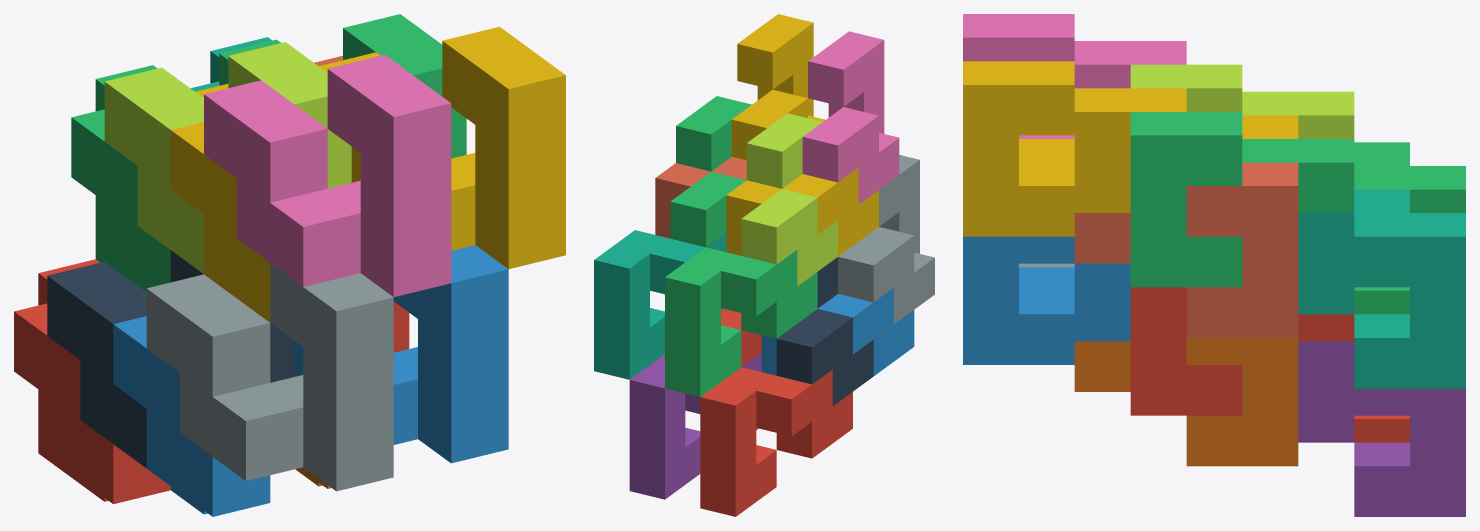
The model's file is tiling.obj.
3 views of the same model, side by side, from view 1: azimuth 30°, elevation 25°; view 2: azimuth 150°, elevation 25°; view 3: azimuth 270°, elevation 25° (orthographic). The views are drawn at different scales.
Parts seen in each view (by area): view 1: copy_2_domain_4, copy_2_domain_2, copy_2_domain_8, copy_2_domain_6, copy_2_domain_3, copy_2_domain_1, copy_1_domain_1, copy_1_domain_2, copy_1_domain_3, copy_1_domain_4, copy_2_domain_7, copy_2_domain_5 (+1 smaller); view 2: copy_1_domain_1, copy_1_domain_3, copy_2_domain_4, copy_1_domain_7, copy_2_domain_3, copy_2_domain_2, copy_1_domain_5, copy_2_domain_8, copy_2_domain_7, copy_2_domain_1, copy_1_domain_4, copy_1_domain_2 (+2 smaller); view 3: copy_2_domain_8, copy_1_domain_7, copy_2_domain_7, copy_1_domain_5, copy_2_domain_6, copy_1_domain_8, copy_1_domain_6, copy_2_domain_5, copy_2_domain_4, copy_2_domain_3, copy_1_domain_3, copy_1_domain_1 (+1 smaller).
Part boxes in pixels (x1,y1,x2,y2): copy_2_domain_4: (204,54,451,296); copy_2_domain_2: (146,263,393,491); copy_2_domain_8: (319,26,565,269); copy_2_domain_6: (294,245,508,463); copy_2_domain_3: (104,42,351,273); copy_2_domain_1: (47,250,294,468); copy_1_domain_1: (14,259,170,504); copy_1_domain_2: (113,316,270,516); copy_1_domain_3: (71,65,170,291); copy_1_domain_4: (170,84,270,322); copy_2_domain_7: (219,14,466,158); copy_2_domain_5: (393,301,409,352); copy_1_domain_1: (700,367,852,516); copy_1_domain_3: (665,247,817,396); copy_2_domain_4: (802,31,899,204); copy_1_domain_7: (594,230,726,379); copy_2_domain_3: (741,113,837,286); copy_2_domain_2: (838,155,934,324); copy_1_domain_5: (629,352,761,499); copy_2_domain_8: (731,14,825,160); copy_2_domain_7: (670,96,751,247); copy_2_domain_1: (776,257,873,405); copy_1_domain_4: (726,168,878,256); copy_1_domain_2: (761,288,914,375); copy_2_domain_8: (963,61,1186,236); copy_1_domain_7: (1298,189,1465,388); copy_2_domain_7: (1130,112,1354,287); copy_1_domain_5: (1298,341,1465,516); copy_2_domain_6: (963,236,1130,364); copy_1_domain_8: (1074,162,1298,337); copy_1_domain_6: (1074,338,1298,466); copy_2_domain_5: (1130,287,1354,415); copy_2_domain_4: (963,14,1186,138); copy_2_domain_3: (1130,64,1354,138); copy_1_domain_3: (1354,142,1465,314); copy_1_domain_1: (1354,415,1409,442).
Size of the model in its own units: 5 by 9 by 9.
